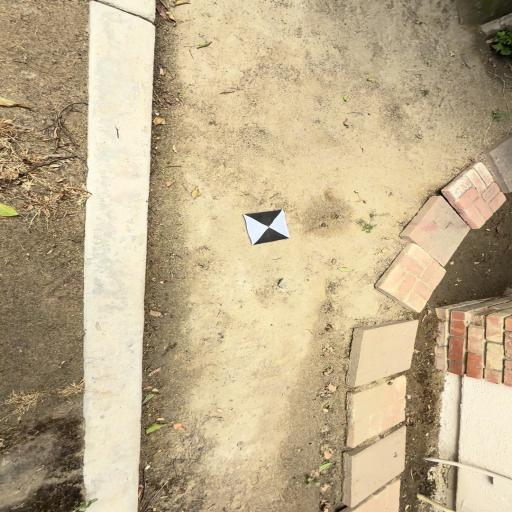target: (243, 209, 290, 245)
